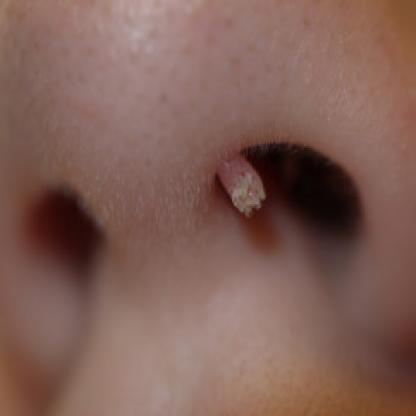Warts: (201, 124, 273, 232)
